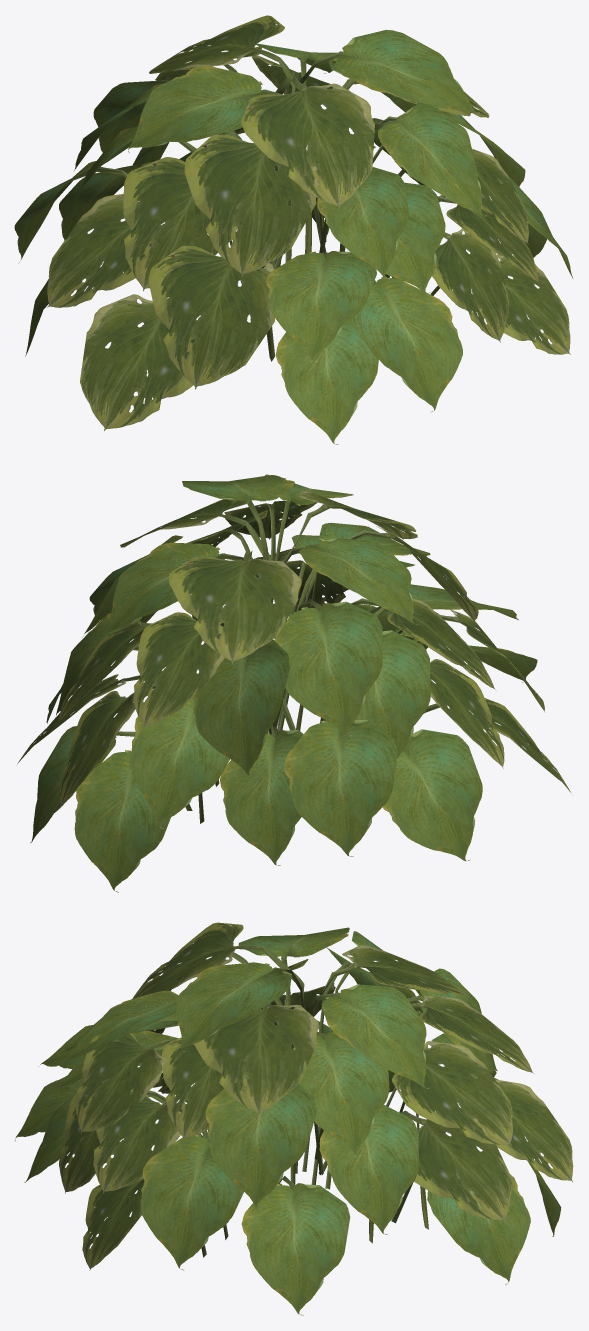
File: NaturePlant01_4.FBX
3 views of the same model, one above another, from view 1: azimuth 30°, elevation 25°; view 2: azimuth 150°, elevation 25°; view 3: azimuth 270°, elevation 25° (orthographic). The views are drawn at different scales.
Visible parts, largest first — view 1: Nature04; view 2: Nature04; view 3: Nature04.
Boxes of the visible parts, x1,y1,x2,y2 form: Nature04: [14, 15, 572, 444]; Nature04: [17, 474, 570, 892]; Nature04: [15, 922, 573, 1315].
Bounding box in the file's own units: 77.65 × 45.22 × 81.9.
Materials: 1 (1 with a texture image).
